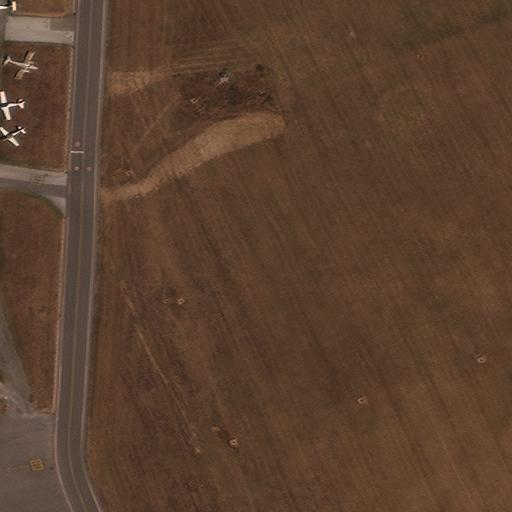Small Civil Transport: (4, 52, 38, 80), (0, 91, 26, 120), (0, 127, 25, 146), (0, 0, 17, 15)
